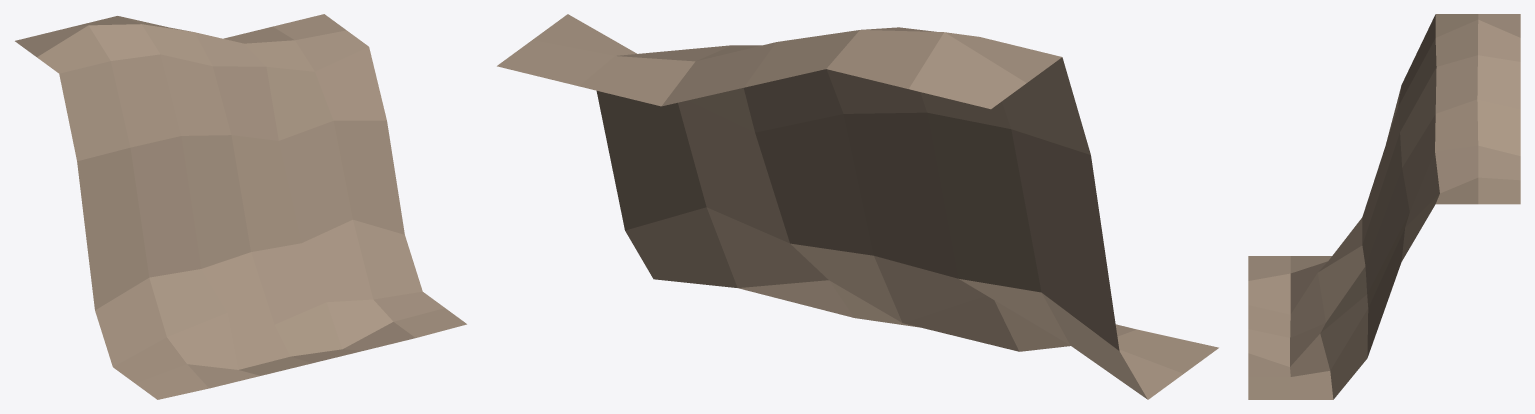
Rendered from Groborchik_RiverBank_Trans_Up5-4.fbx.
3 views of the same model, side by side, from view 1: azimuth 30°, elevation 25°; view 2: azimuth 150°, elevation 25°; view 3: azimuth 270°, elevation 25° (orthographic). The views are drawn at different scales.
Visible parts, largest first — view 1: Trans_Up5-4; view 2: Trans_Up5-4; view 3: Trans_Up5-4.
Part boxes in pixels (x1,y1,x2,y2): Trans_Up5-4: [15, 14, 466, 399]; Trans_Up5-4: [497, 14, 1218, 399]; Trans_Up5-4: [1248, 14, 1520, 399].
Size of the model in its own units: 1000 by 892 by 800.
